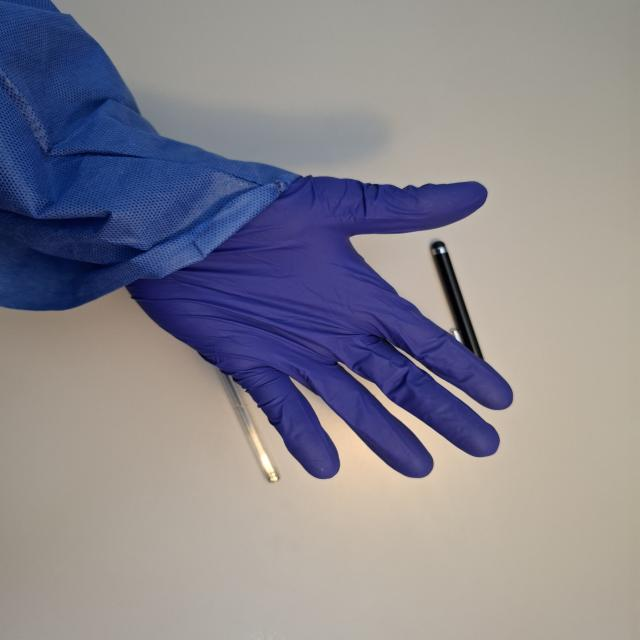glove_on: (117, 173, 518, 481)
